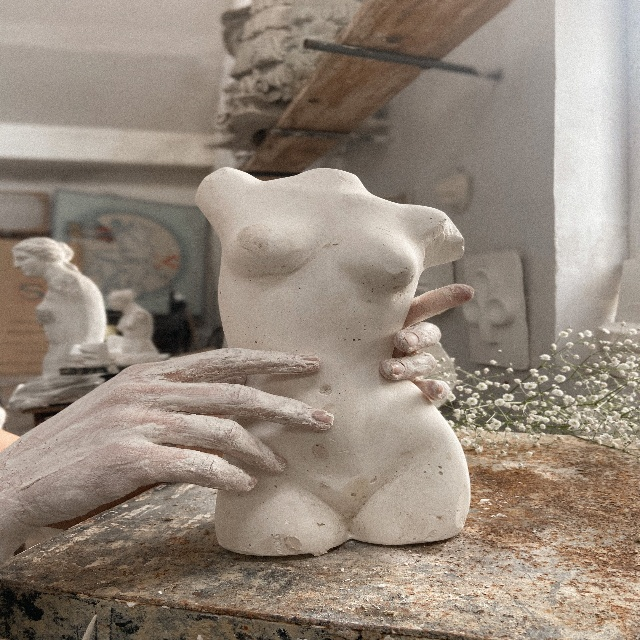Sin_guantes: (33, 346, 334, 530), (378, 284, 473, 402)
